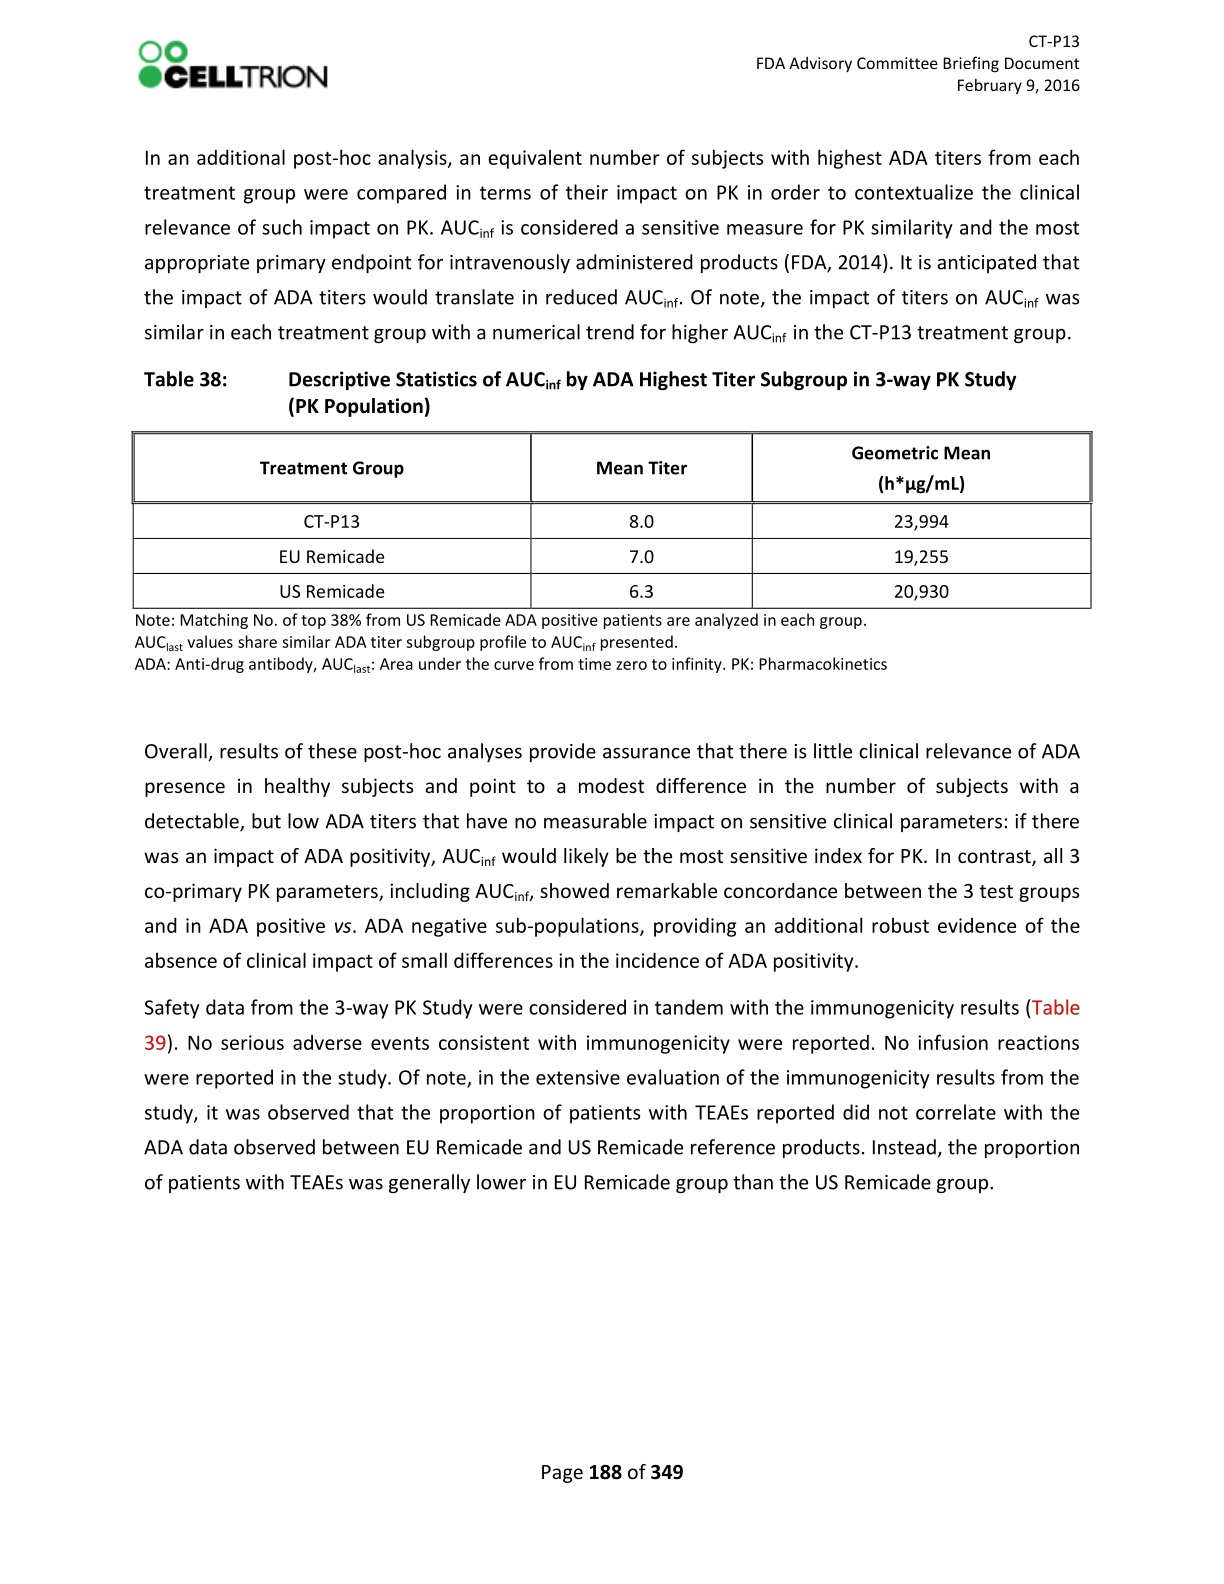full_lined: (130, 429, 1093, 609)
